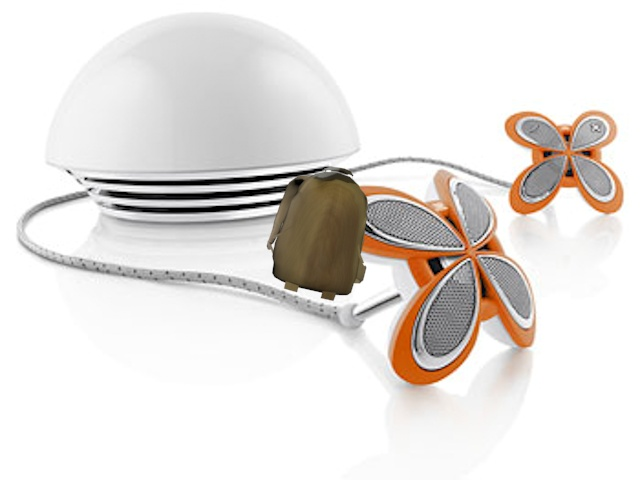back_pack: (257, 161, 370, 304)
